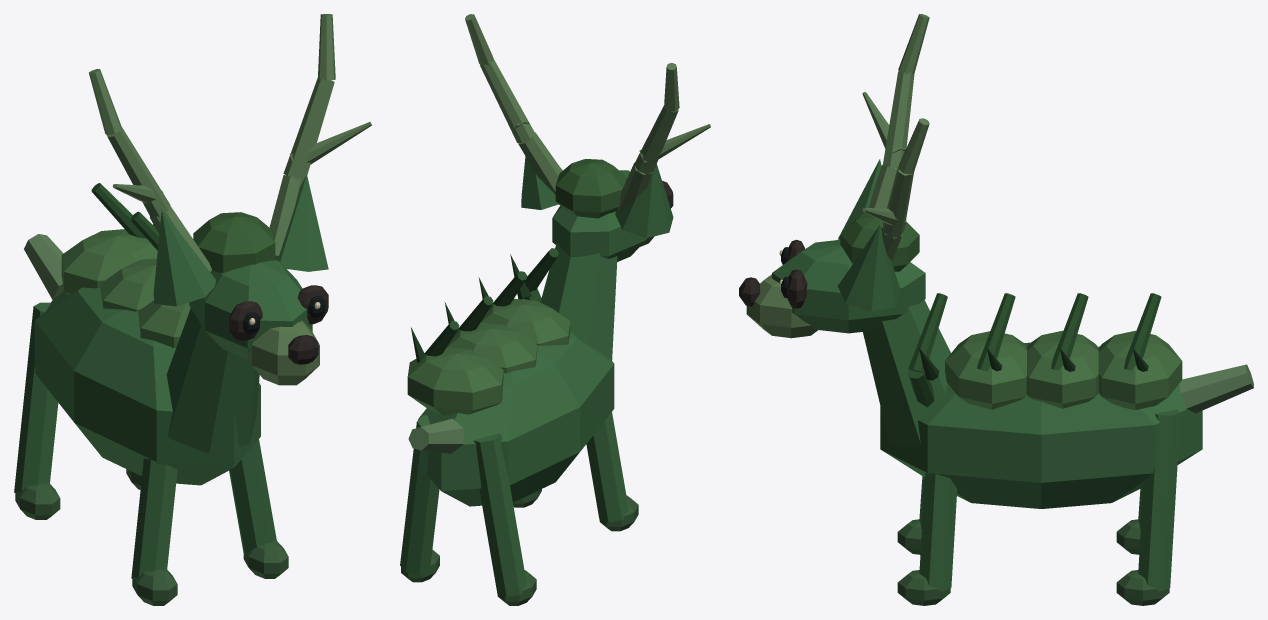
File: spell-fauna-thornbound.glb
The picture shows the model from 3 angles, left to right: view 1: azimuth 30°, elevation 25°; view 2: azimuth 150°, elevation 25°; view 3: azimuth 270°, elevation 25°; orthographic projection. The views are drawn at different scales.
Parts seen in each view (by area): view 1: Fauna_thornbound; view 2: Fauna_thornbound; view 3: Fauna_thornbound.
Boxes of the visible parts, x1,y1,x2,y2 form: Fauna_thornbound: [14, 14, 371, 605]; Fauna_thornbound: [400, 14, 710, 605]; Fauna_thornbound: [739, 14, 1253, 605].
Bounding box in the file's own units: 1.07 × 2.17 × 1.98.
